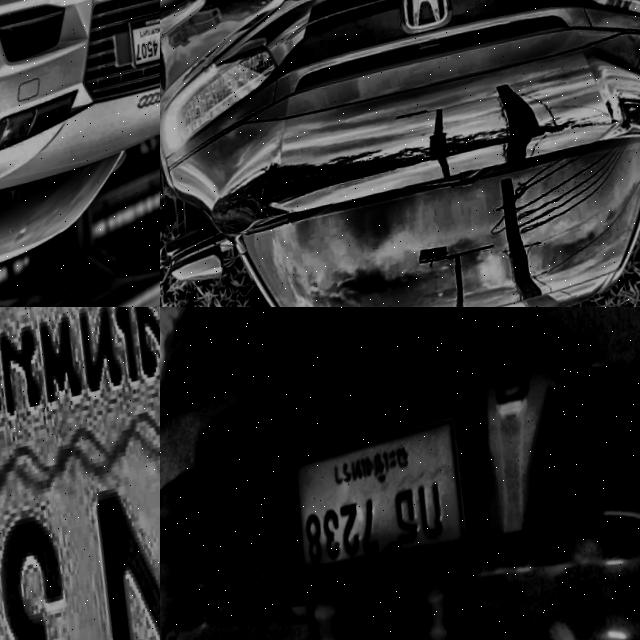license-plate: (0, 307, 160, 640), (299, 419, 463, 574), (125, 11, 160, 75)
